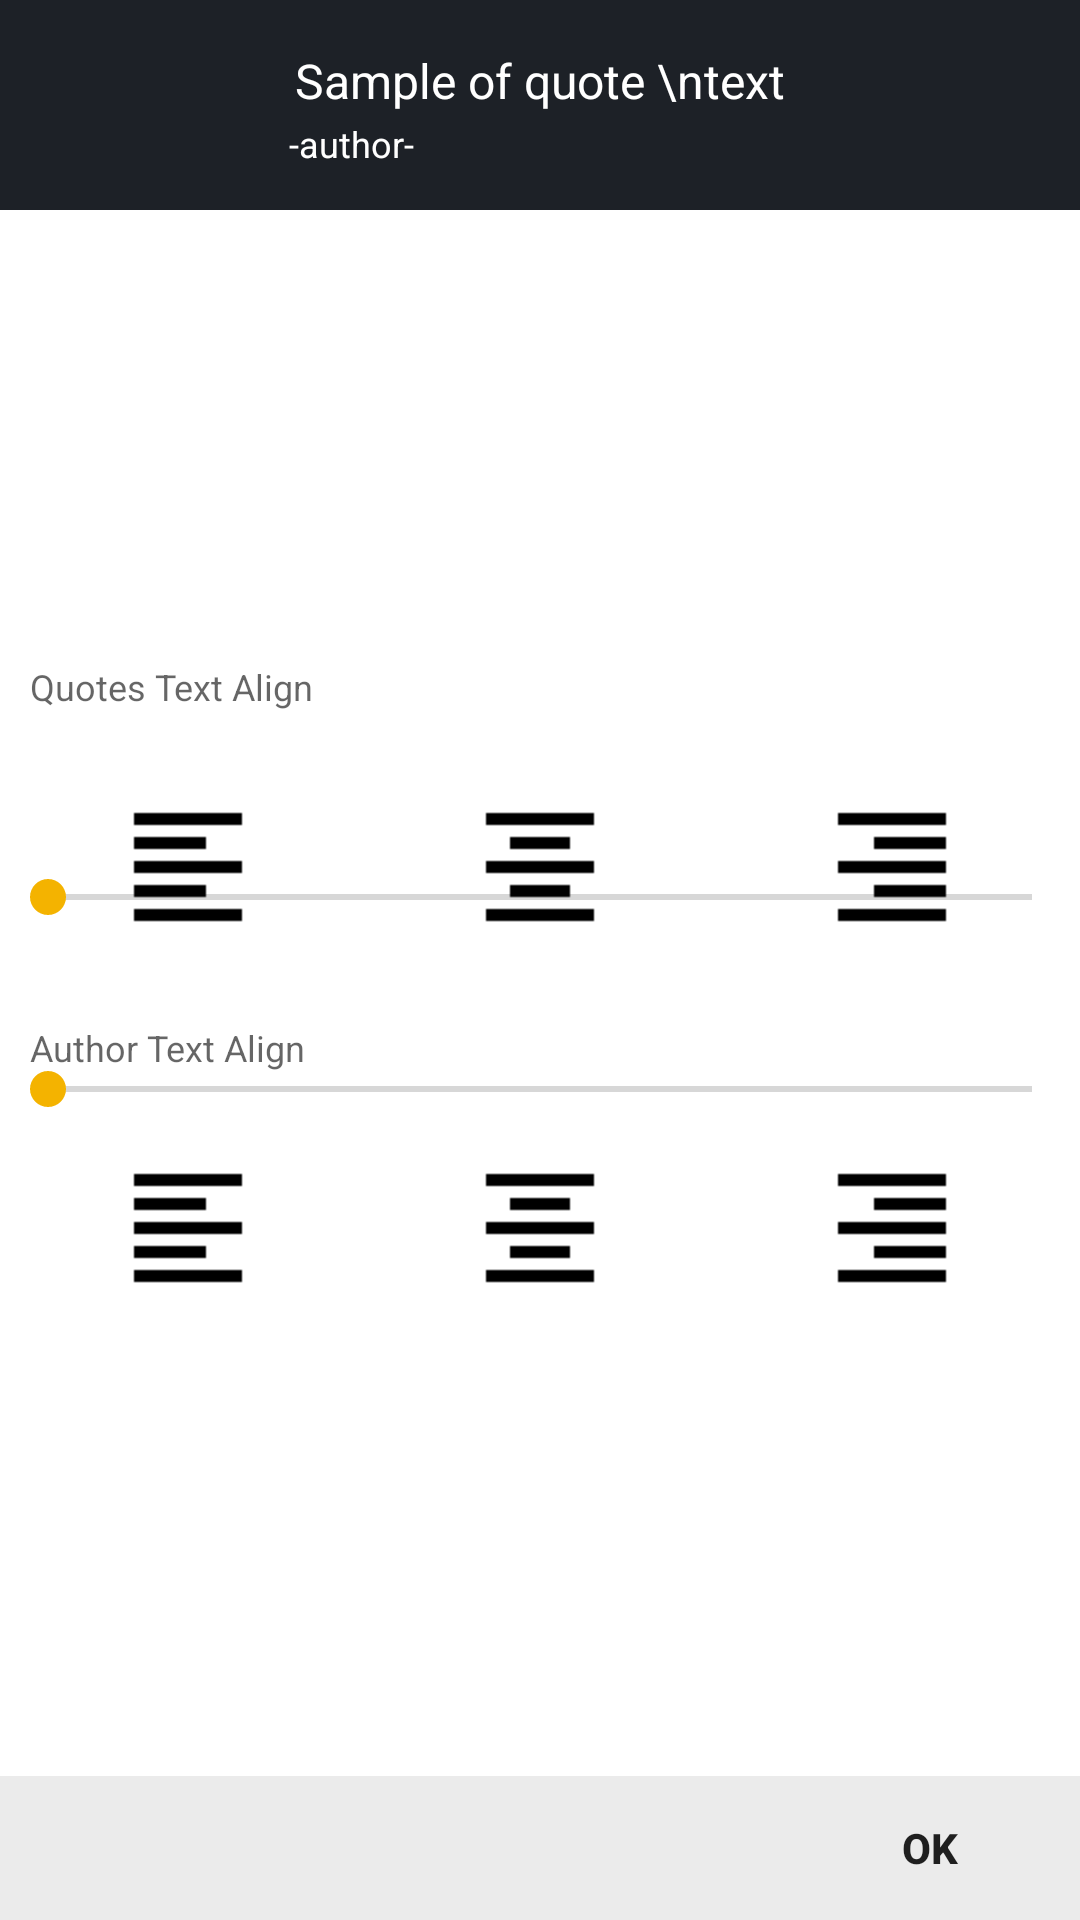

Locate icon controls on the screen. Image size 1080*1920, boxes as {"x1": x1, "y1": y1, "x2": x2, "y2": y2}.
align center: {"x1": 485, "y1": 812, "x2": 595, "y2": 922}, {"x1": 485, "y1": 1173, "x2": 595, "y2": 1283}
align left: {"x1": 133, "y1": 812, "x2": 243, "y2": 922}, {"x1": 133, "y1": 1173, "x2": 243, "y2": 1283}
align right: {"x1": 837, "y1": 812, "x2": 947, "y2": 922}, {"x1": 837, "y1": 1173, "x2": 947, "y2": 1283}
